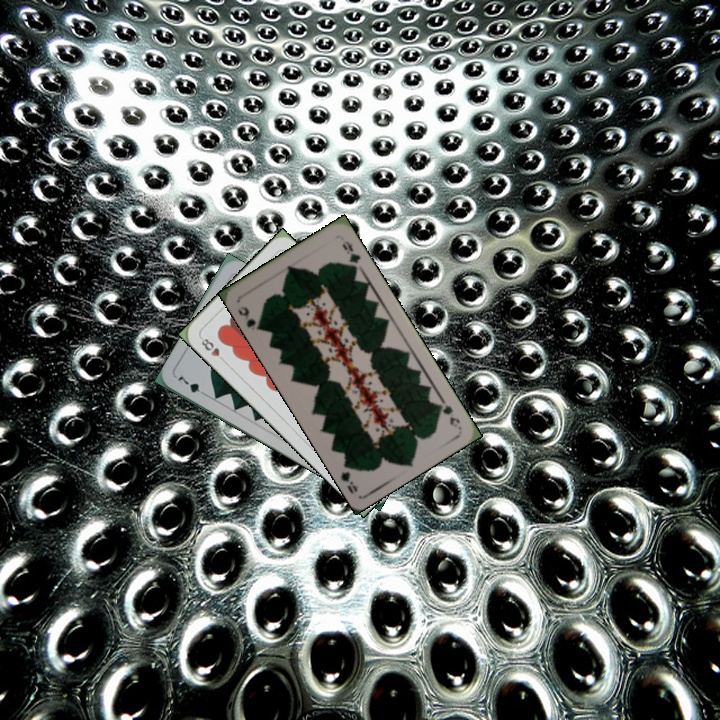G7: (174, 372, 210, 399)
G9: (234, 302, 265, 332), (434, 400, 462, 430)
H8: (196, 333, 229, 365)
